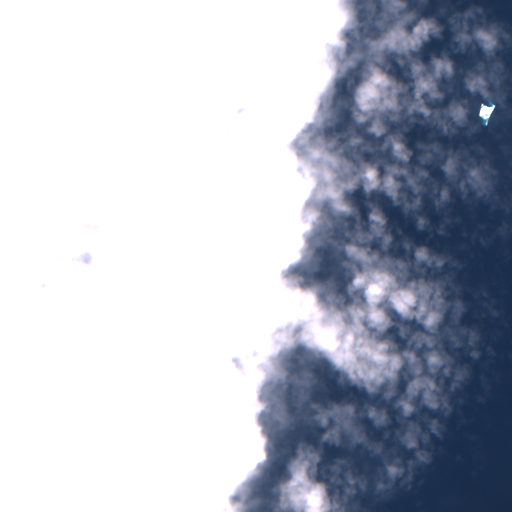Iceberg: (479, 103, 495, 125)
